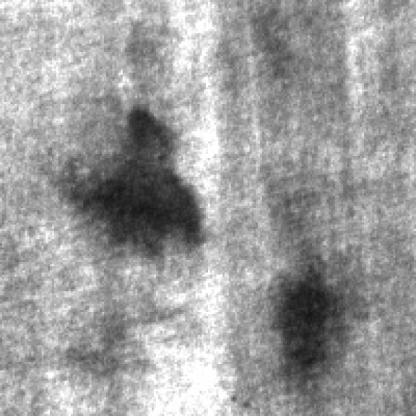patches: (86, 110, 212, 262), (269, 275, 345, 389)
